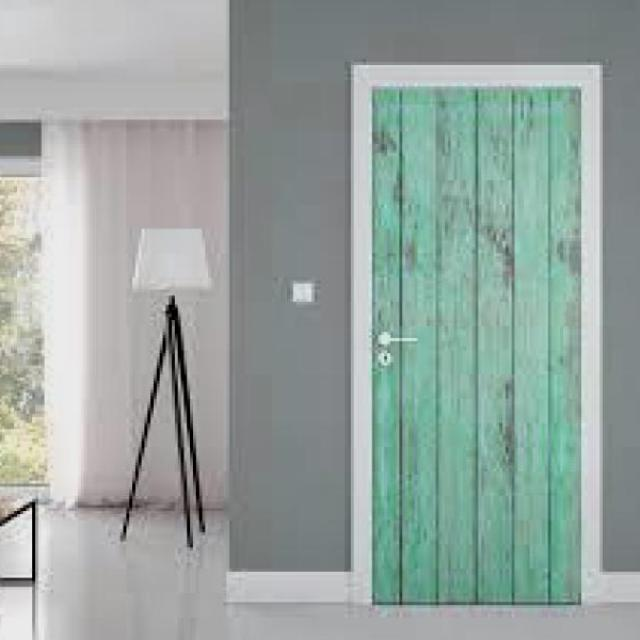door: (367, 72, 584, 606)
